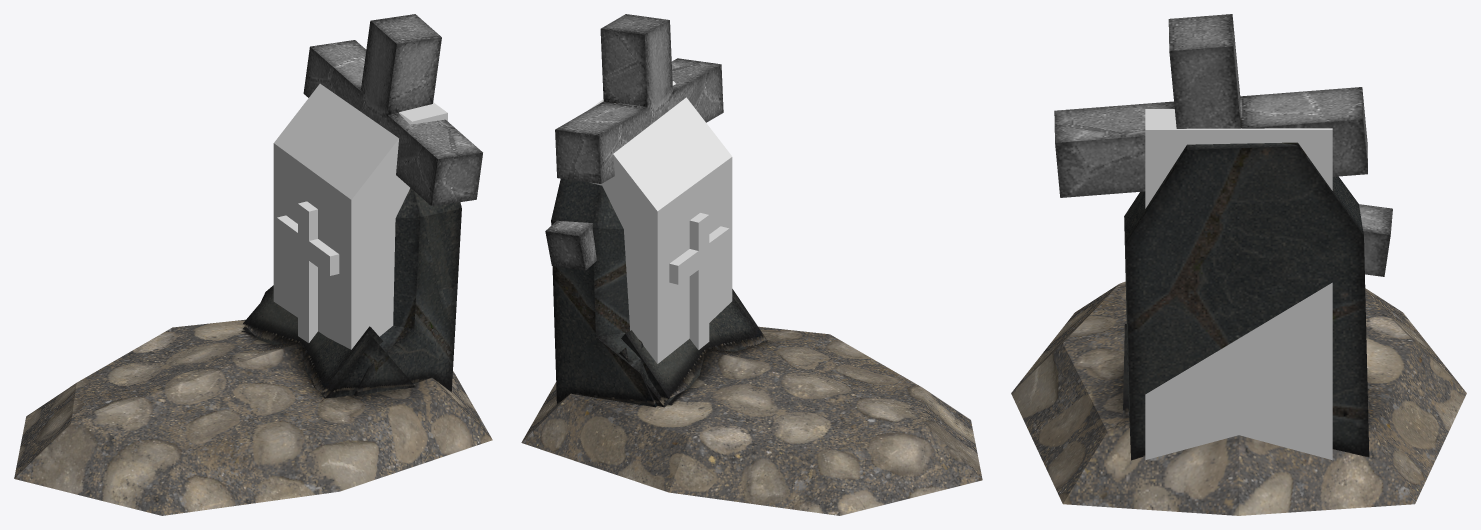
File: Gravestones.fbx
3 views of the same model, side by side, from view 1: azimuth 30°, elevation 25°; view 2: azimuth 150°, elevation 25°; view 3: azimuth 270°, elevation 25° (orthographic). The views are drawn at different scales.
Parts seen in each view (by area): view 1: Grave_01, Grave_04, Grave_03, Grave_02; view 2: Grave_01, Grave_04, Grave_03, Grave_02; view 3: Grave_01, Grave_03, Grave_04, Grave_02.
Boxes of the visible parts, x1=… form: Grave_01: x1=14, y1=14, x2=492, y2=515; Grave_04: x1=273, y1=83, x2=447, y2=349; Grave_03: x1=261, y1=188, x2=461, y2=396; Grave_02: x1=243, y1=326, x2=383, y2=394; Grave_01: x1=521, y1=14, x2=982, y2=515; Grave_04: x1=589, y1=81, x2=732, y2=363; Grave_03: x1=551, y1=178, x2=656, y2=407; Grave_02: x1=545, y1=220, x2=765, y2=407; Grave_01: x1=1011, y1=14, x2=1466, y2=515; Grave_03: x1=1124, y1=142, x2=1369, y2=460; Grave_04: x1=1145, y1=109, x2=1332, y2=460; Grave_02: x1=1359, y1=204, x2=1392, y2=276.
Size of the model in its own units: 309 by 259 by 230.
